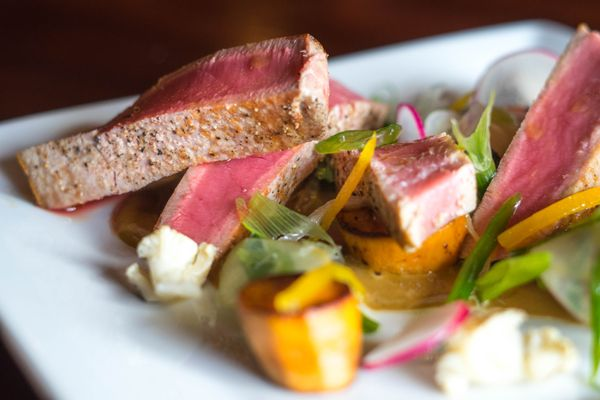soup: (15, 33, 335, 214)
